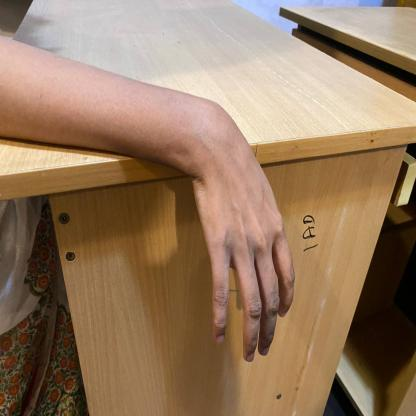hand: (1, 32, 301, 372)
